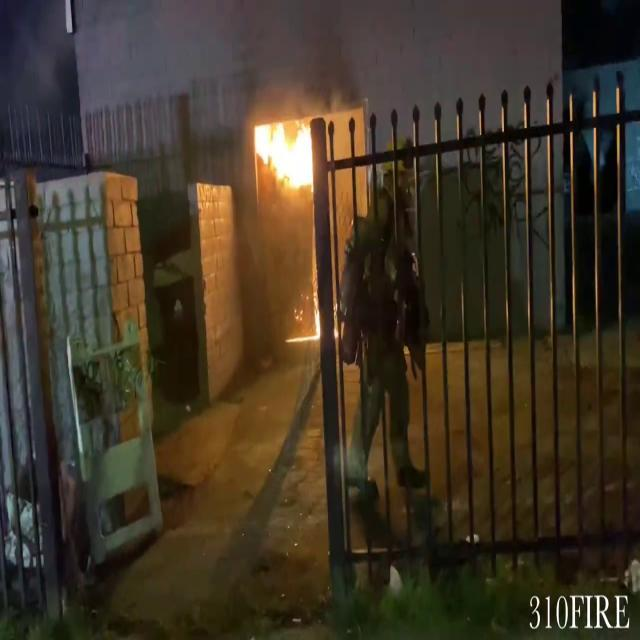Fire: (254, 115, 316, 196)
